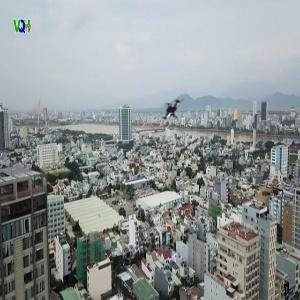drone: (145, 78, 218, 151)
